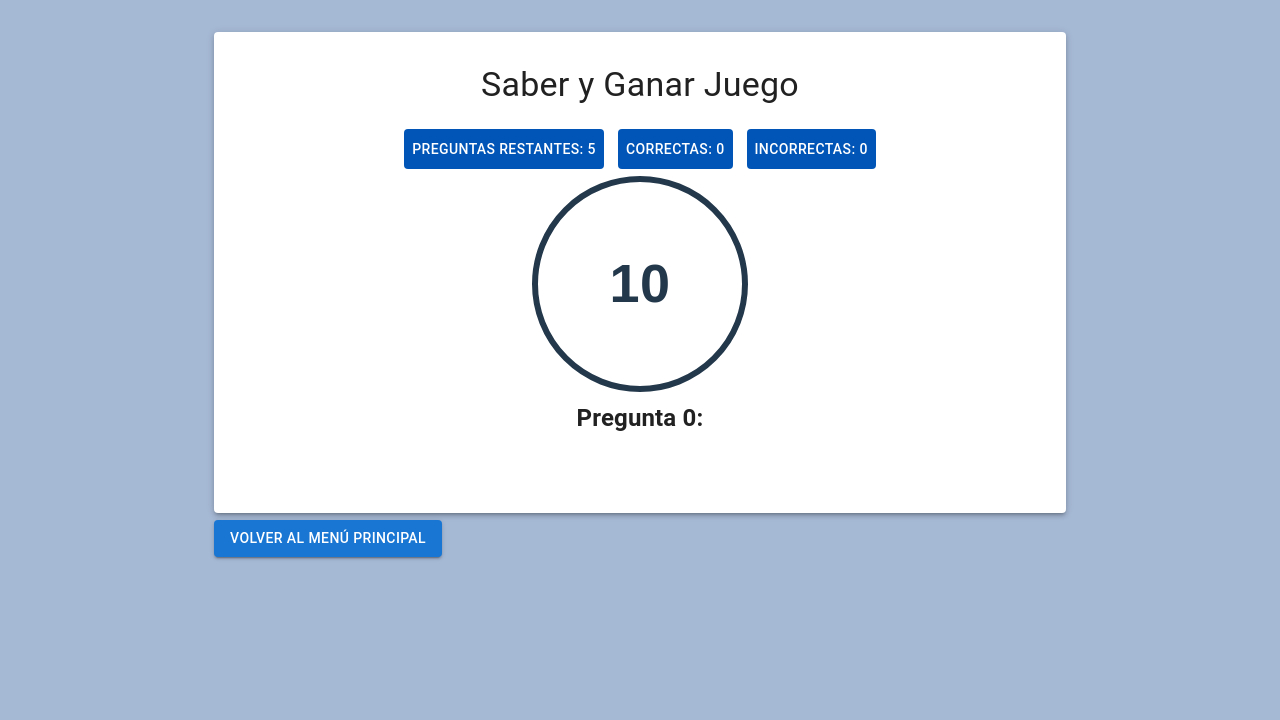
Test: Game component › should close confirmation dialog on cancel
The image size is (1280, 720).
// Open the confirmation dialog
What coordinates should you click on to do the following:
click the button "Volver al menú principal"
I would click on:
 (328, 538)
Its box is left=214, top=520, right=442, bottom=557.
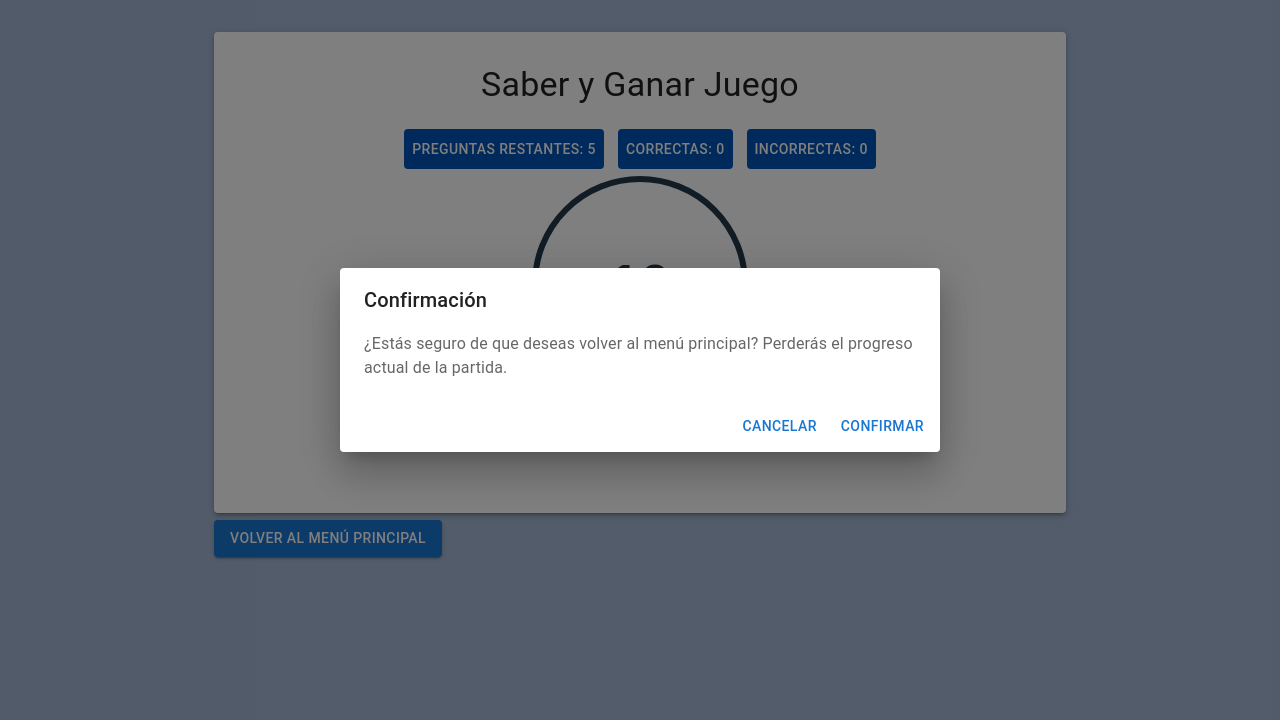
// Simulate clicking the cancel button
What coordinates should you click on to do the following:
click the button "Cancelar"
I would click on:
 (780, 426)
Its box is left=734, top=408, right=825, bottom=444.
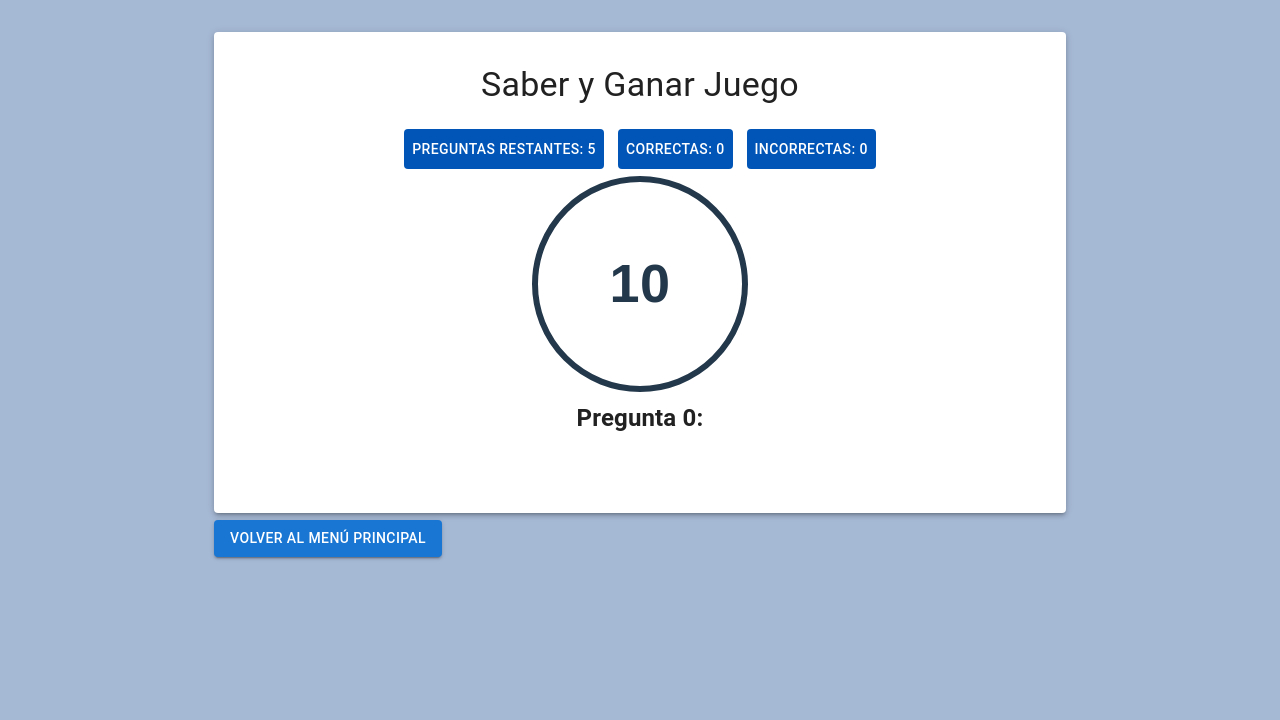
expect the heading "Confirmación" is gone: met
